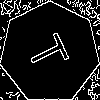T: (25, 27, 78, 75)
